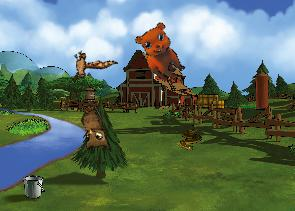bear: (128, 17, 197, 87)
eagle: (59, 36, 118, 94)
owl: (67, 102, 114, 156)
